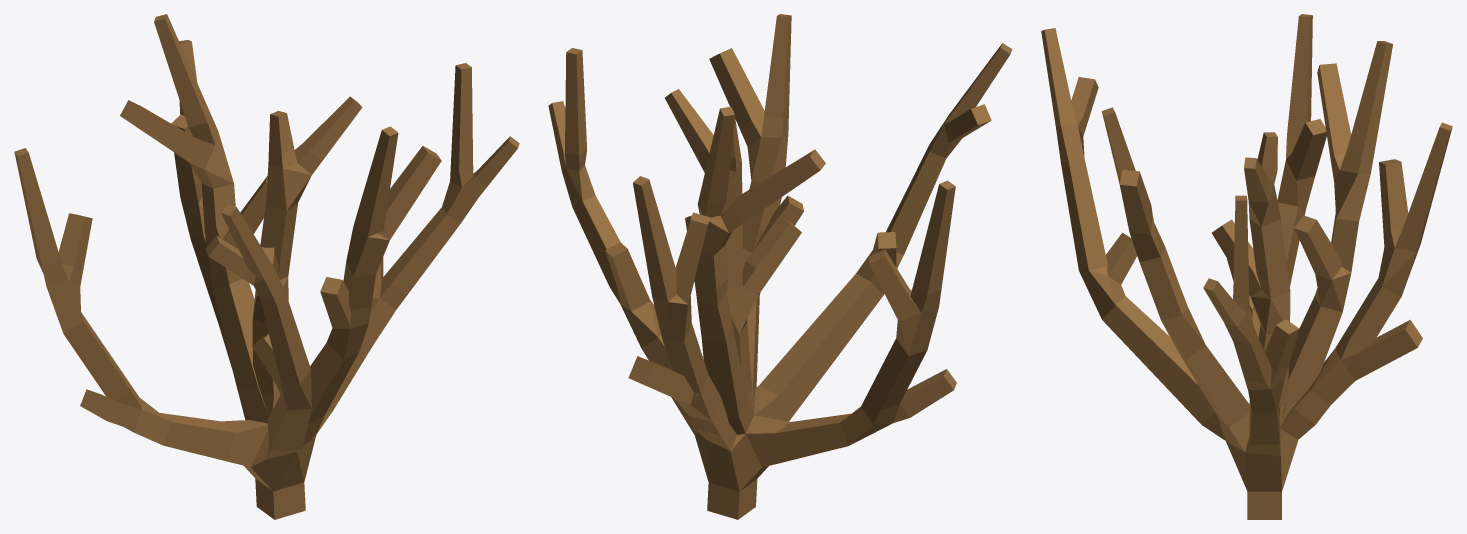
The model's file is shrub.glb.
3 renders of one model, left to right at view 1: azimuth 30°, elevation 25°; view 2: azimuth 150°, elevation 25°; view 3: azimuth 270°, elevation 25°, orthographic. The views are drawn at different scales.
Visible parts, largest first — view 1: Shrub; view 2: Shrub; view 3: Shrub.
Boxes of the visible parts, x1=… form: Shrub: x1=14, y1=14, x2=519, y2=519; Shrub: x1=548, y1=14, x2=1012, y2=519; Shrub: x1=1041, y1=14, x2=1452, y2=519.
Bounding box in the file's own units: 2.78 × 2.69 × 2.25.
